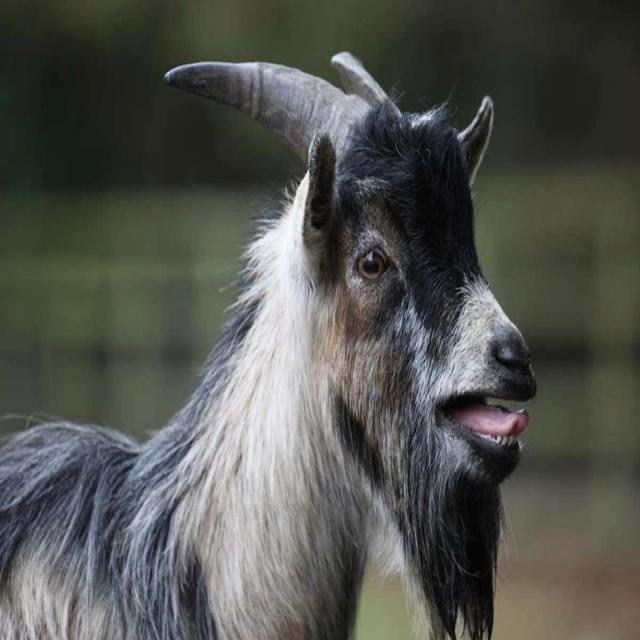goat: (0, 53, 536, 639)
